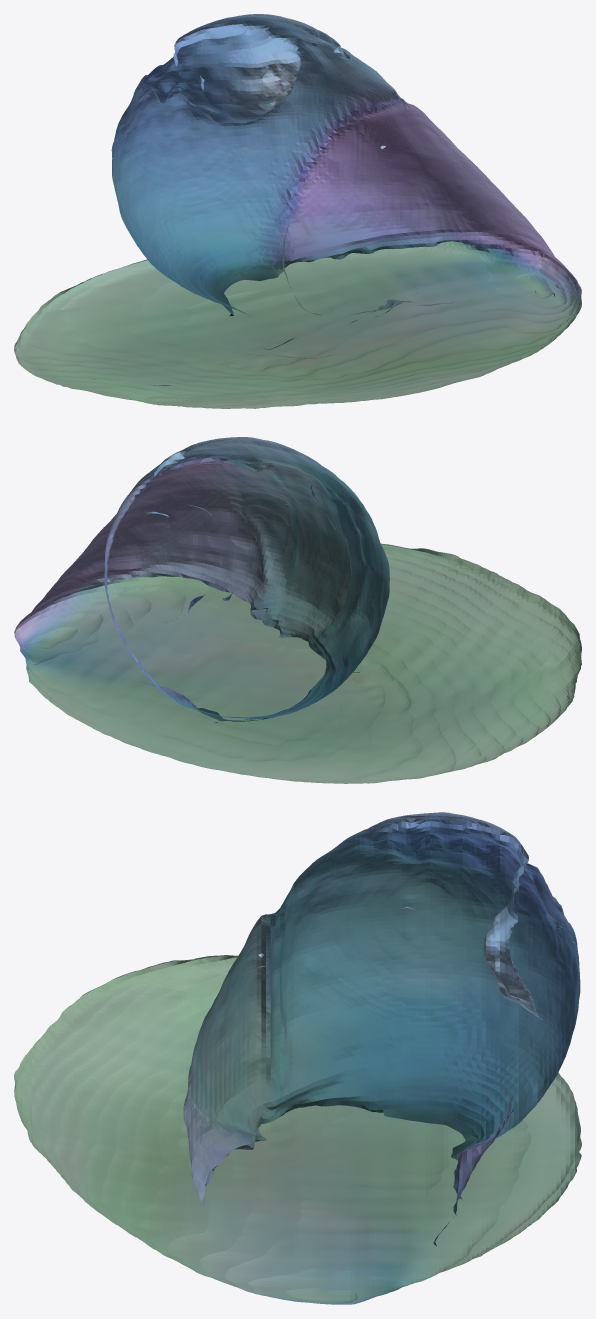
The picture shows the model from 3 angles, top to bottom: view 1: azimuth 30°, elevation 25°; view 2: azimuth 150°, elevation 25°; view 3: azimuth 270°, elevation 25°; orthographic projection. The views are drawn at different scales.
Parts seen in each view (by area): view 1: geometry_0; view 2: geometry_0; view 3: geometry_0.
Part boxes in pixels (box(x1,y1,x2,y2)): geometry_0: box(14, 14, 581, 408); geometry_0: box(14, 437, 581, 783); geometry_0: box(14, 812, 581, 1304).
Size of the model in its own units: 1.6 by 0.8203 by 1.25.
